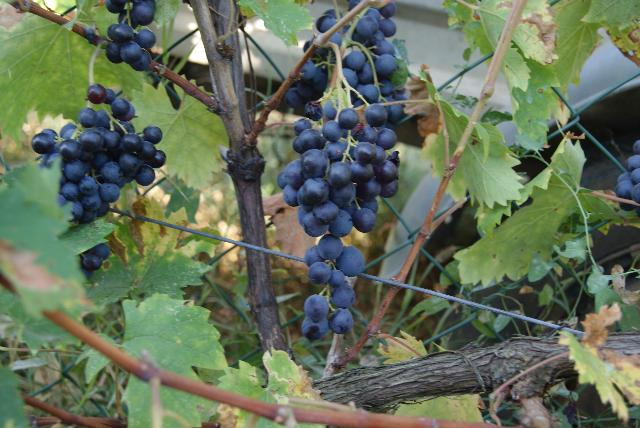grapes: (278, 102, 399, 340), (31, 84, 166, 224)
